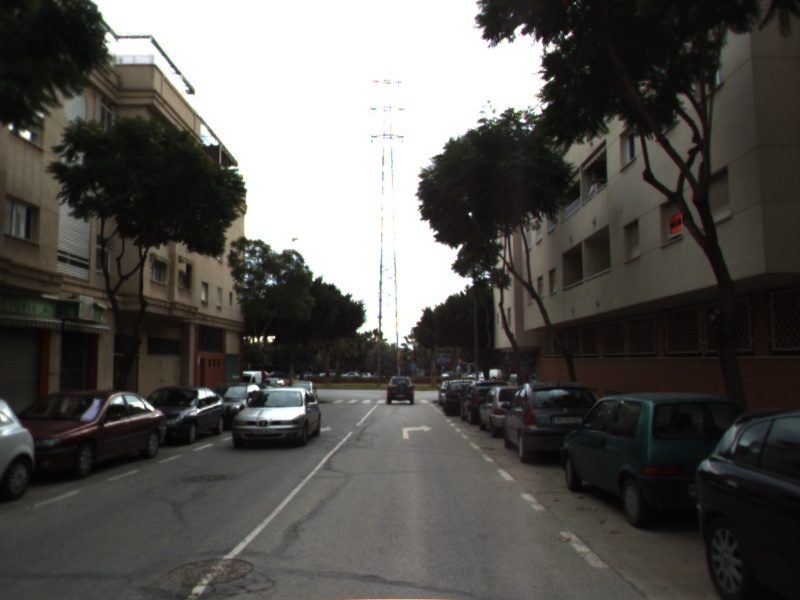RIGHT: (400, 422, 436, 441)
